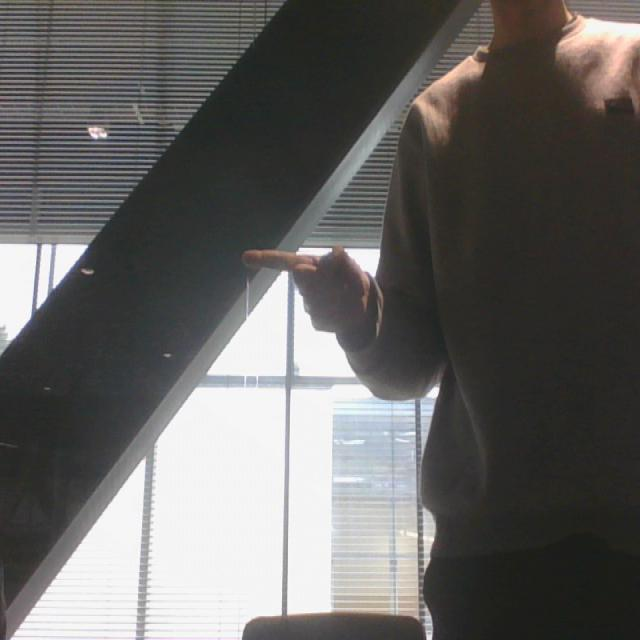left: (241, 238, 373, 344)
